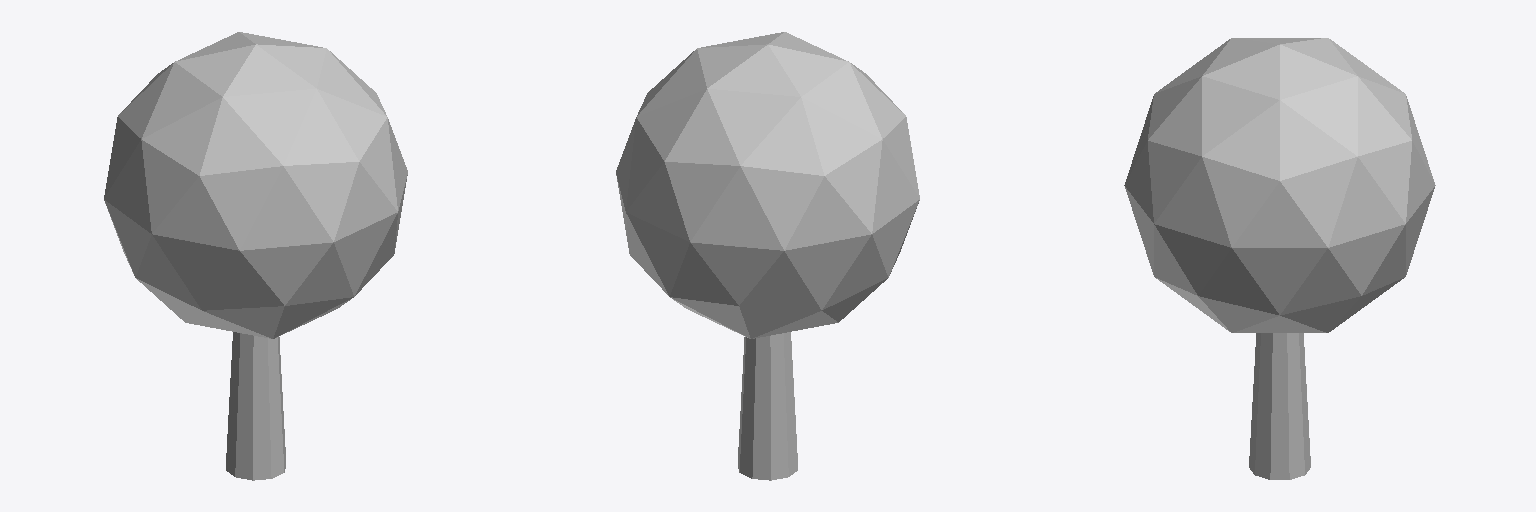
The model's file is Tree.obj.
3 renders of one model, left to right at view 1: azimuth 30°, elevation 25°; view 2: azimuth 150°, elevation 25°; view 3: azimuth 270°, elevation 25°, orthographic.
Size of the model in its own units: 1.9 by 3 by 2.